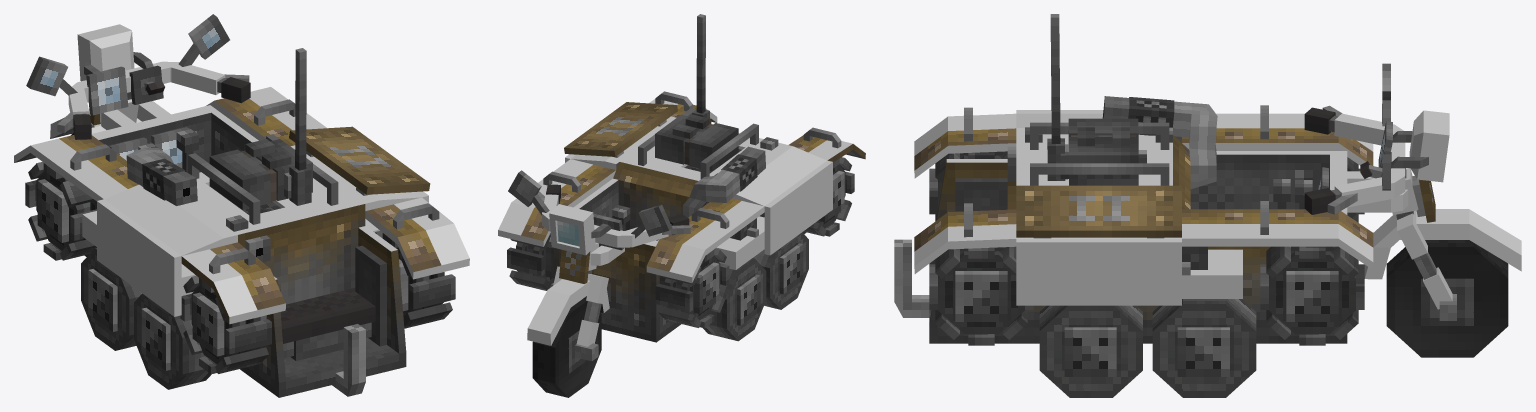
File: tracked_motorbike.obj
3 views of the same model, side by side, from view 1: azimuth 30°, elevation 25°; view 2: azimuth 150°, elevation 25°; view 3: azimuth 270°, elevation 25° (orthographic). The views are drawn at different scales.
Parts seen in each view (by area): view 1: hull, steering_wheel, radio, armor_left, LeftWheelLead2, LeftWheelLead1, hood, wheel_left2, wheel_left1, RightWheelRear1, pipe, crip (+2 smaller); view 2: hull, steering_wheel, radio, armor_left, LeftWheelLead1, wheel, wheel_left1, wheel_left2, pipe, hood, wing, RightWheelRear2 (+3 smaller); view 3: hull, armor_right, wheel, wheel_right1, RightWheelRear2, wheel_right2, steering_wheel, RightWheelRear1, radio, hood, pipe, wing (+5 smaller).
Boxes of the visible parts, x1=… form: hull: x1=14, y1=87, x2=469, y2=397; steering_wheel: x1=26, y1=14, x2=229, y2=139; radio: x1=209, y1=48, x2=312, y2=209; armor_left: x1=97, y1=199, x2=181, y2=316; LeftWheelLead2: x1=180, y1=275, x2=271, y2=374; LeftWheelLead1: x1=25, y1=162, x2=96, y2=260; hood: x1=188, y1=134, x2=353, y2=228; wheel_left2: x1=134, y1=293, x2=211, y2=389; wheel_left1: x1=81, y1=248, x2=141, y2=350; RightWheelRear1: x1=375, y1=231, x2=455, y2=328; pipe: x1=126, y1=147, x2=197, y2=205; crip: x1=90, y1=99, x2=170, y2=129; hull: x1=498, y1=91, x2=865, y2=342; steering_wheel: x1=508, y1=170, x2=689, y2=303; radio: x1=655, y1=14, x2=738, y2=171; armor_left: x1=764, y1=160, x2=832, y2=255; LeftWheelLead1: x1=655, y1=248, x2=729, y2=328; wheel: x1=532, y1=298, x2=601, y2=397; wheel_left1: x1=703, y1=258, x2=766, y2=341; wheel_left2: x1=753, y1=232, x2=808, y2=309; pipe: x1=683, y1=146, x2=765, y2=217; hood: x1=625, y1=108, x2=765, y2=180; wing: x1=527, y1=279, x2=609, y2=345; RightWheelRear2: x1=507, y1=233, x2=553, y2=290; hull: x1=894, y1=105, x2=1373, y2=343; armor_right: x1=1016, y1=238, x2=1181, y2=305; wheel: x1=1386, y1=240, x2=1508, y2=357; wheel_right1: x1=1152, y1=299, x2=1256, y2=397; RightWheelRear2: x1=1260, y1=246, x2=1364, y2=345; wheel_right2: x1=1039, y1=305, x2=1142, y2=397; steering_wheel: x1=1304, y1=63, x2=1449, y2=259; RightWheelRear1: x1=929, y1=246, x2=1033, y2=345; radio: x1=1047, y1=14, x2=1138, y2=185; hood: x1=1025, y1=122, x2=1172, y2=185; pipe: x1=1102, y1=96, x2=1217, y2=188; wing: x1=1364, y1=209, x2=1521, y2=279.
Size of the model in its own units: 2.26 by 2.72 by 4.5.
